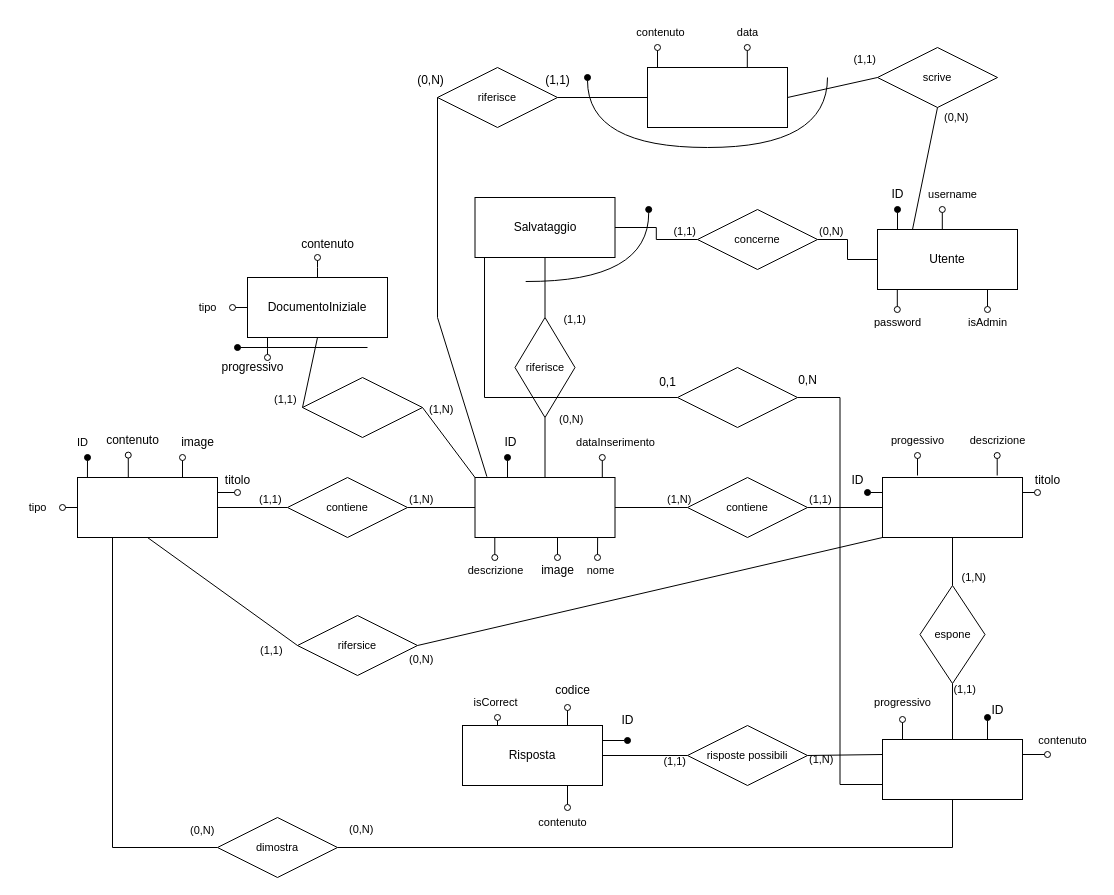
Image size: 1114x895. Some labels were removed from this diagram. The shapes that lost their labels are listed below. From the top down, each one's centre as x and y in pixels, then its label:
At point (717, 97): "Recensione".
At point (362, 407): "possiede".
At point (737, 397): "salva".
At point (147, 507): "Prova".
At point (544, 507): "Indagine".
At point (952, 507): "Capitolo".
At point (952, 769): "Domanda".
